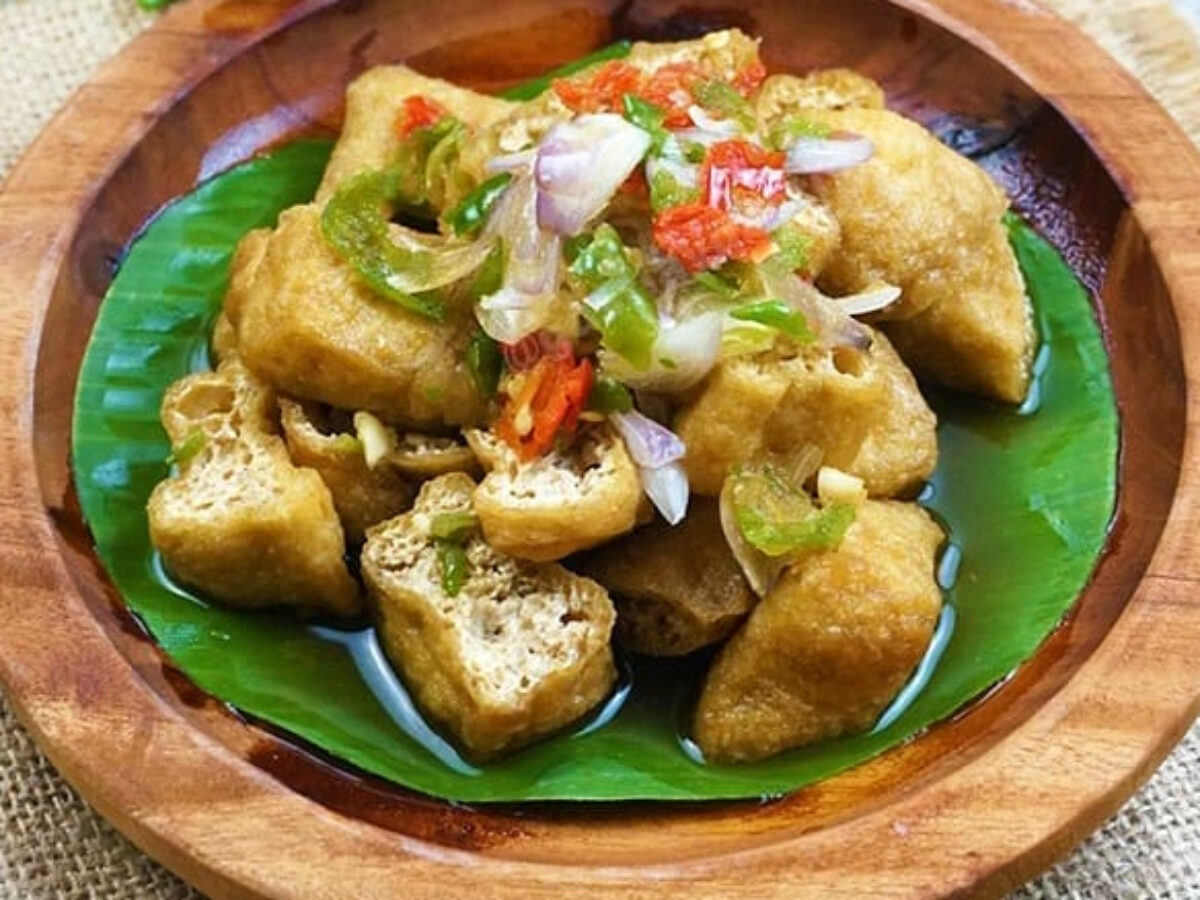tahu_gejrot: (150, 28, 1047, 770)
